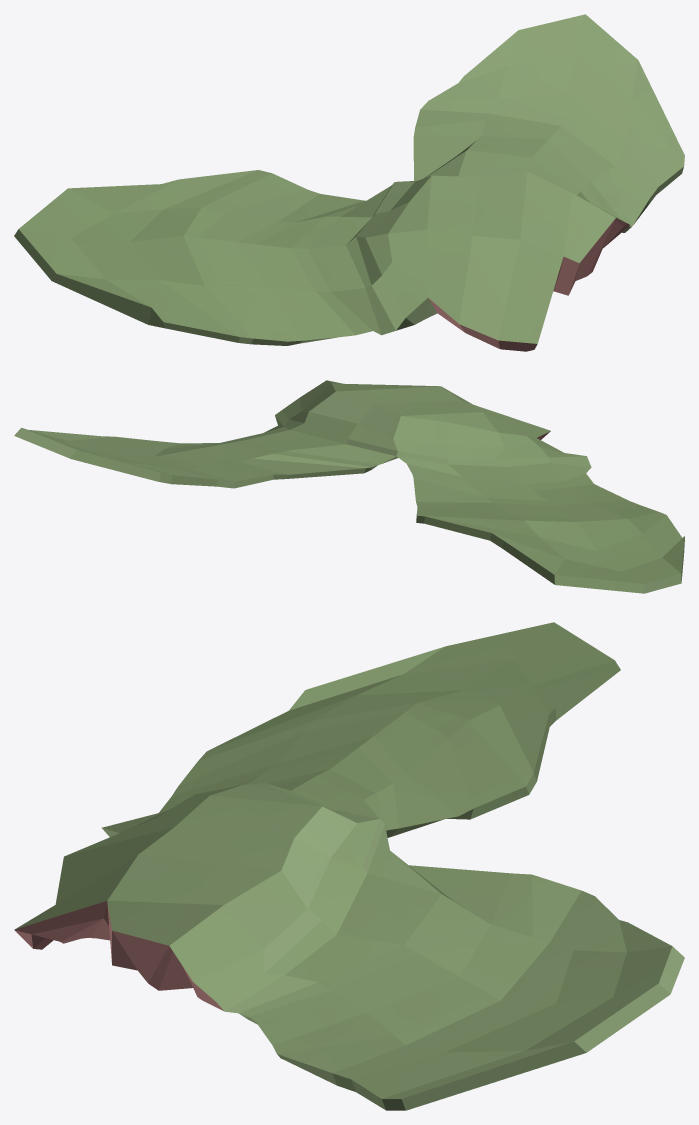
Rendered from flower_petal_1_b.glb.
3 renders of one model, top to bottom at view 1: azimuth 30°, elevation 25°; view 2: azimuth 150°, elevation 25°; view 3: azimuth 270°, elevation 25°, orthographic. The views are drawn at different scales.
Visible parts, largest first — view 1: flower_petal_1_b; view 2: flower_petal_1_b; view 3: flower_petal_1_b.
Boxes of the visible parts, bbox=[...] form: flower_petal_1_b: bbox=[14, 14, 684, 351]; flower_petal_1_b: bbox=[14, 380, 684, 593]; flower_petal_1_b: bbox=[14, 622, 684, 1110].
Bounding box in the file's own units: 0.1683 × 0.0282 × 0.1087.
1 material, 1 textured.
